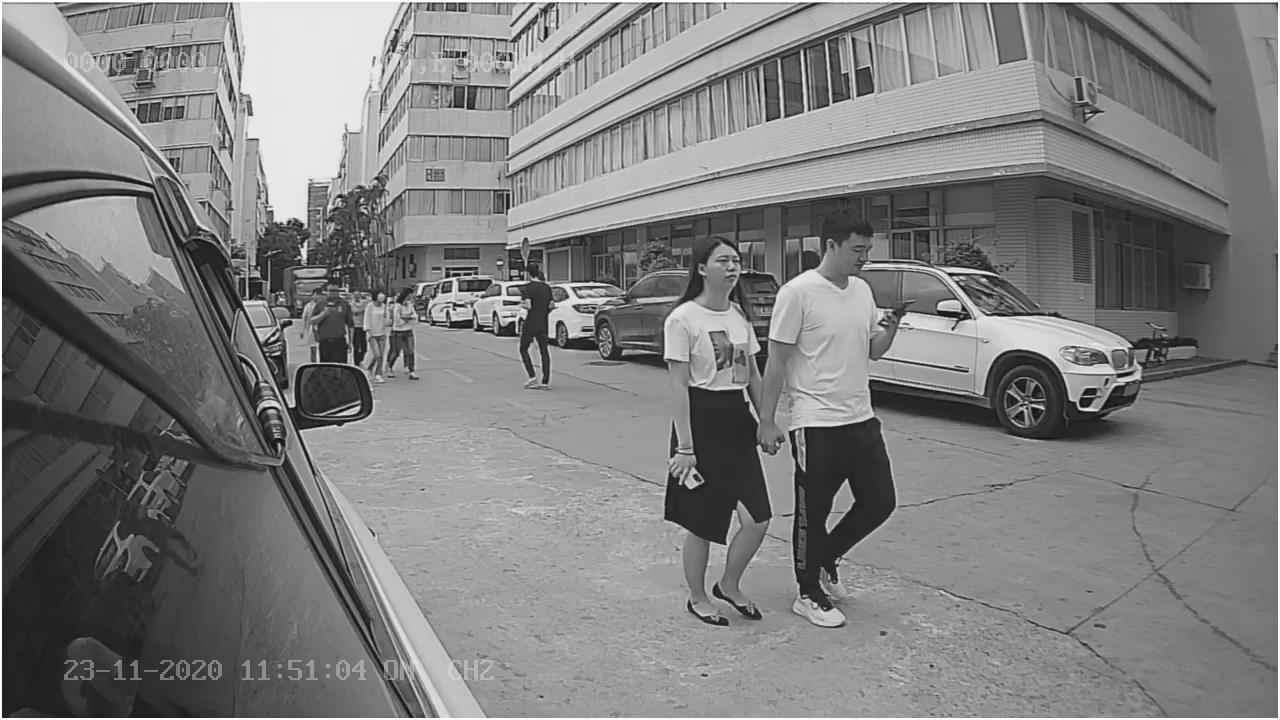person: (649, 233, 786, 630), (512, 258, 564, 390)
